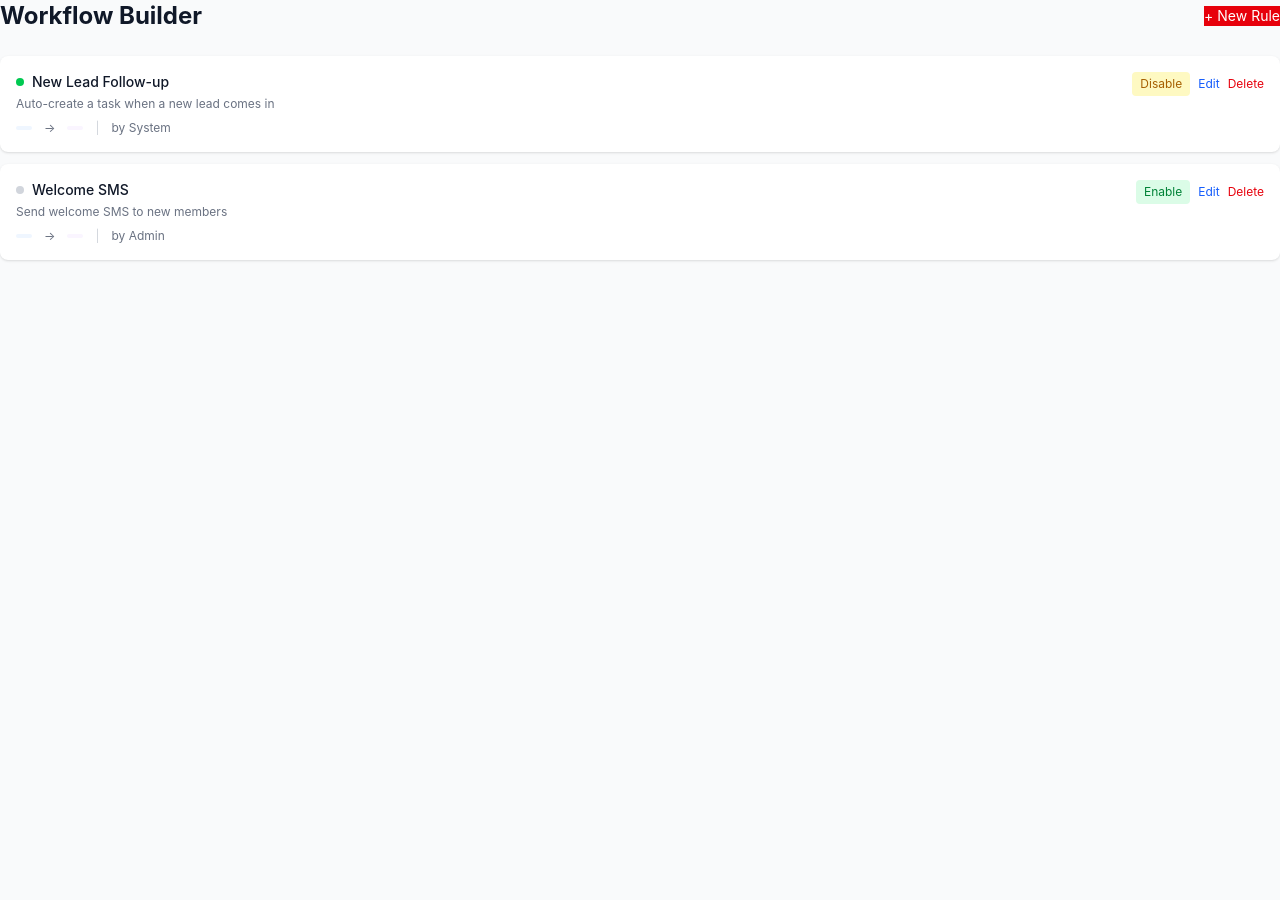
Test case: WorkflowBuilder Page › disables Save button when required fields are empty
Click the button "+ New Rule". click: (1242, 16)
box: [1204,6,1279,26]
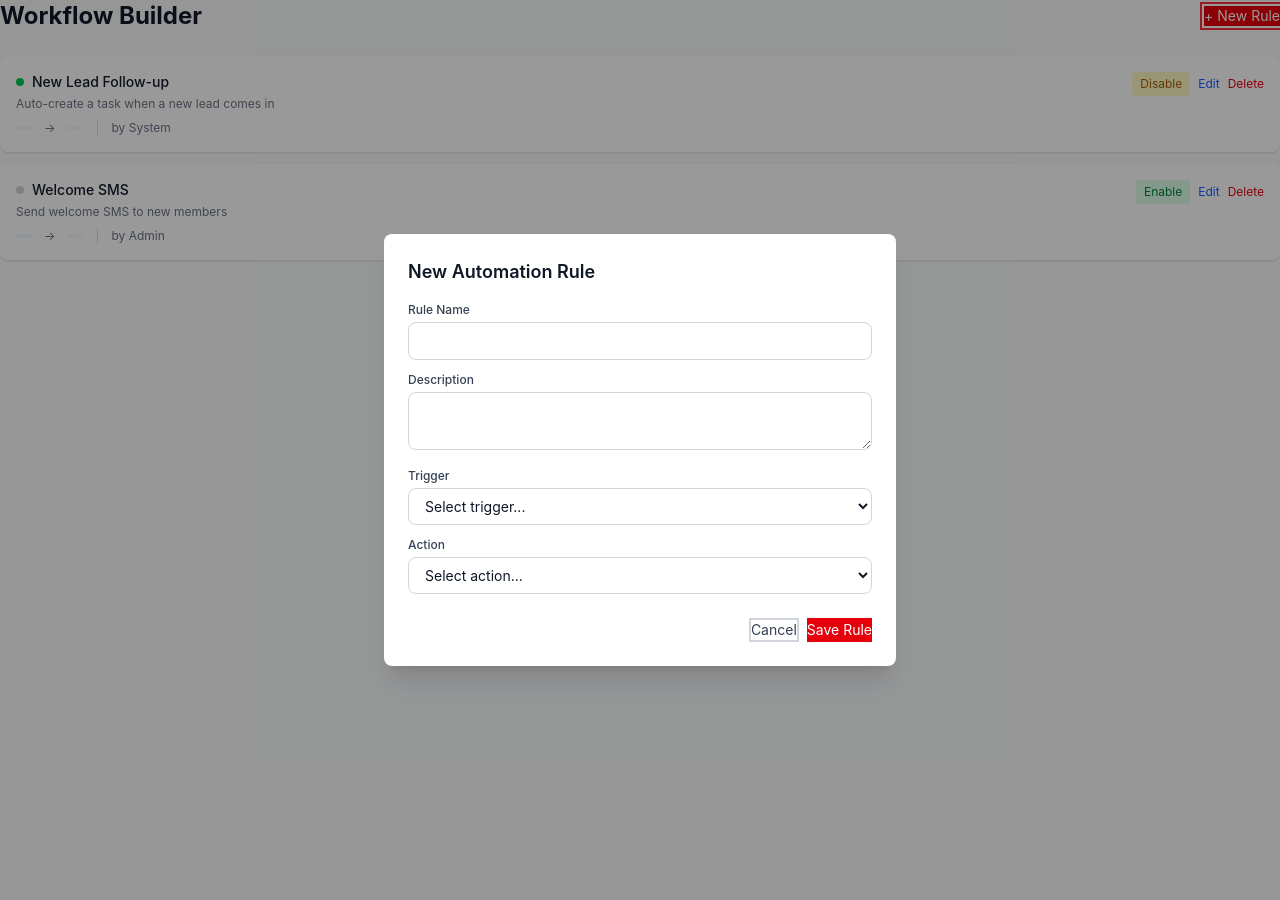
Now the button "Save Rule" is disabled, box [807,618,872,642]
Type "Test" into the field. click: (640, 341)
box: [408,322,872,360]
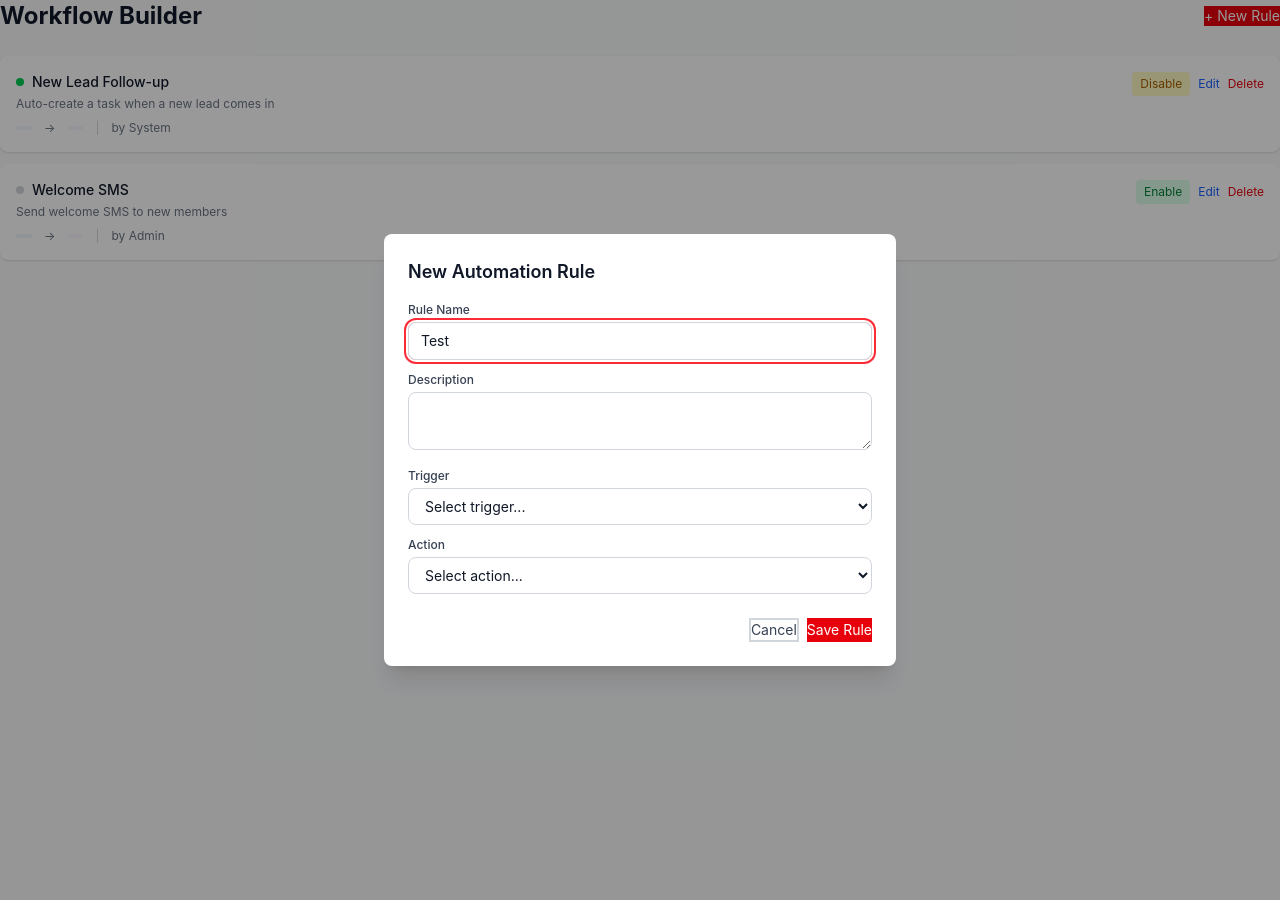
Now the button "Save Rule" is disabled, box [807,618,872,642]
Select "Member Created" in the dropdown showing "Select trigger..." below "Trigger". click: (640, 506)
box: [408,488,872,525]
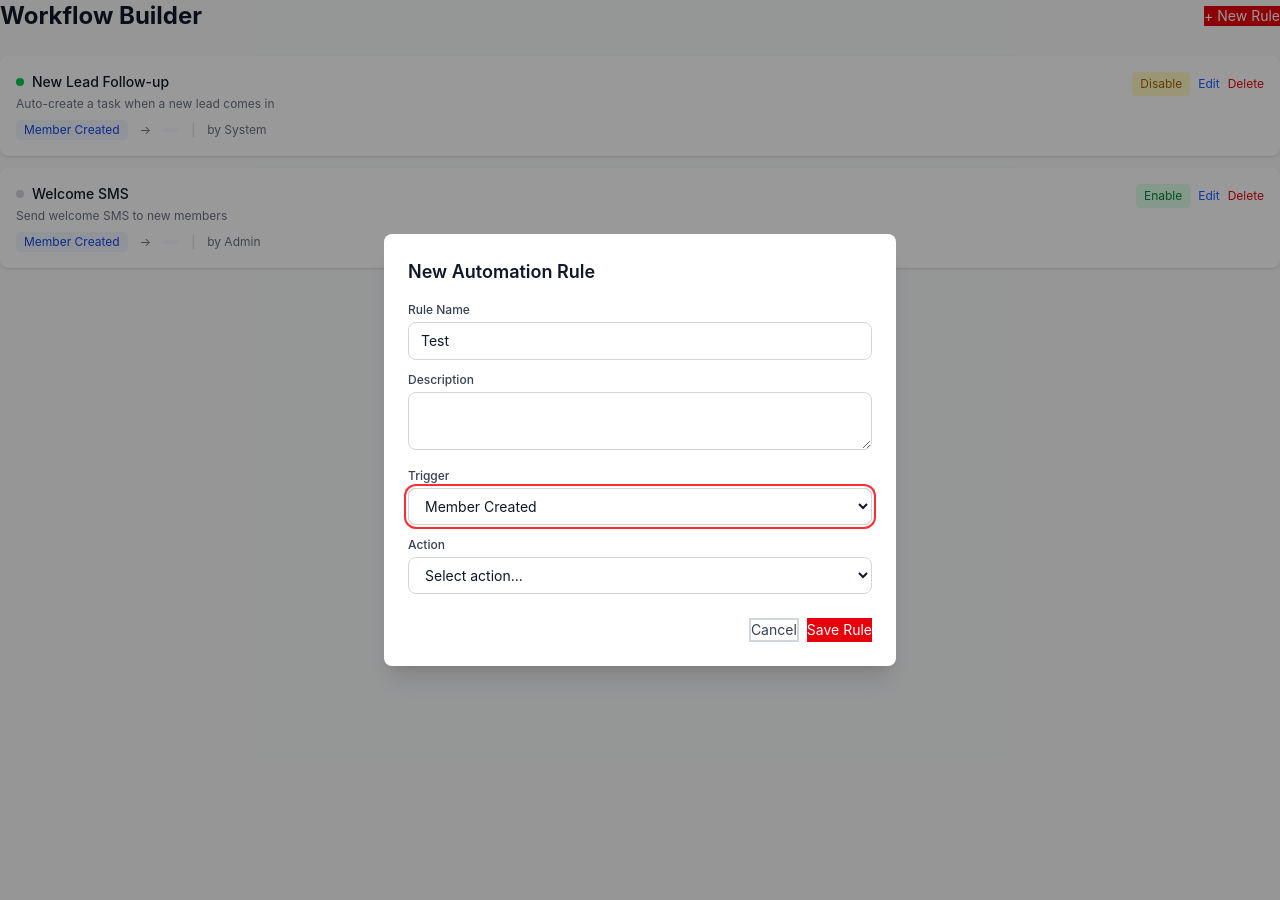
Now the button "Save Rule" is disabled, box [807,618,872,642]
Select "Create Task" in the dropdown showing "Select action..." below "Action". click: (640, 576)
box: [408,557,872,594]
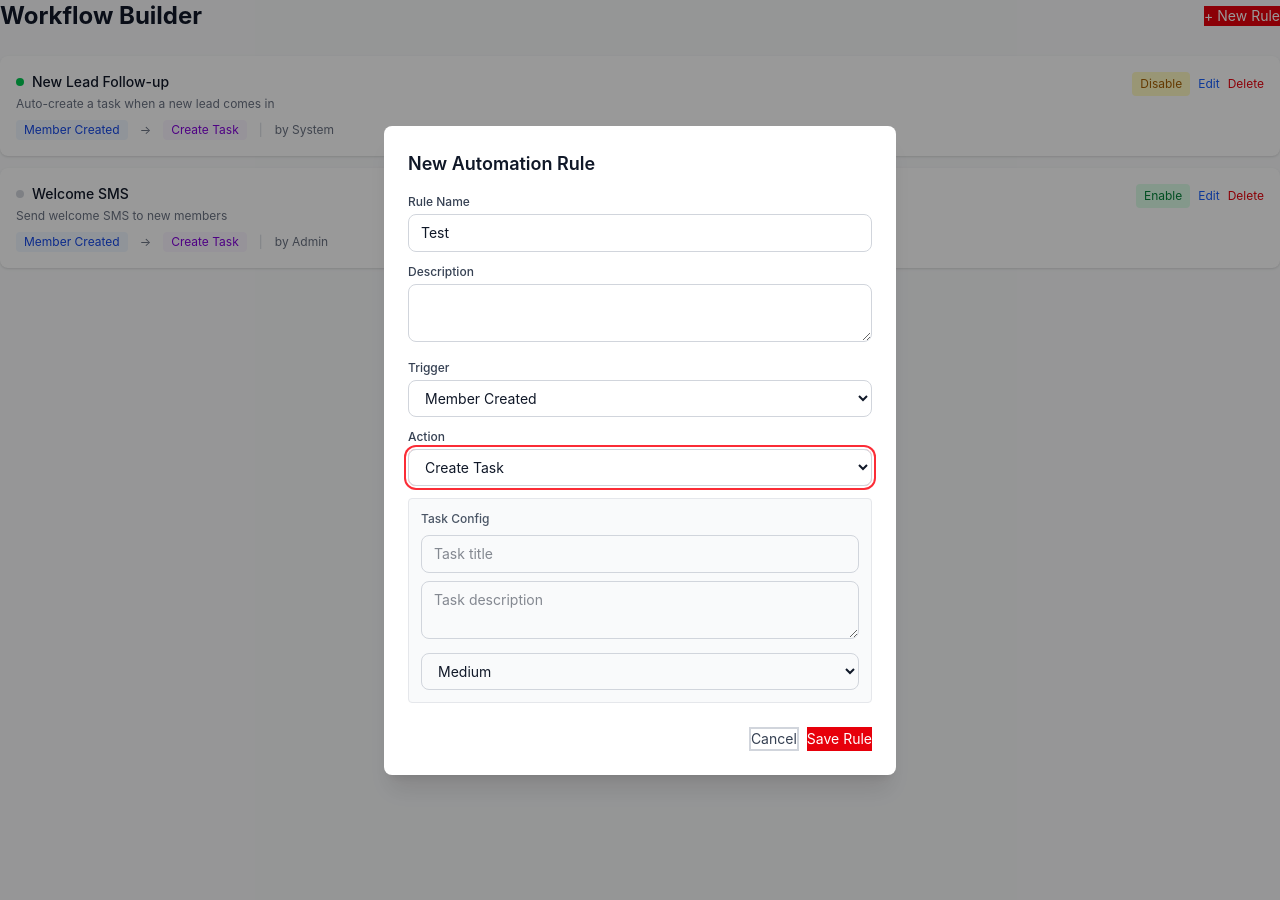
Now the button "Save Rule" is enabled, box [807,726,872,750]
